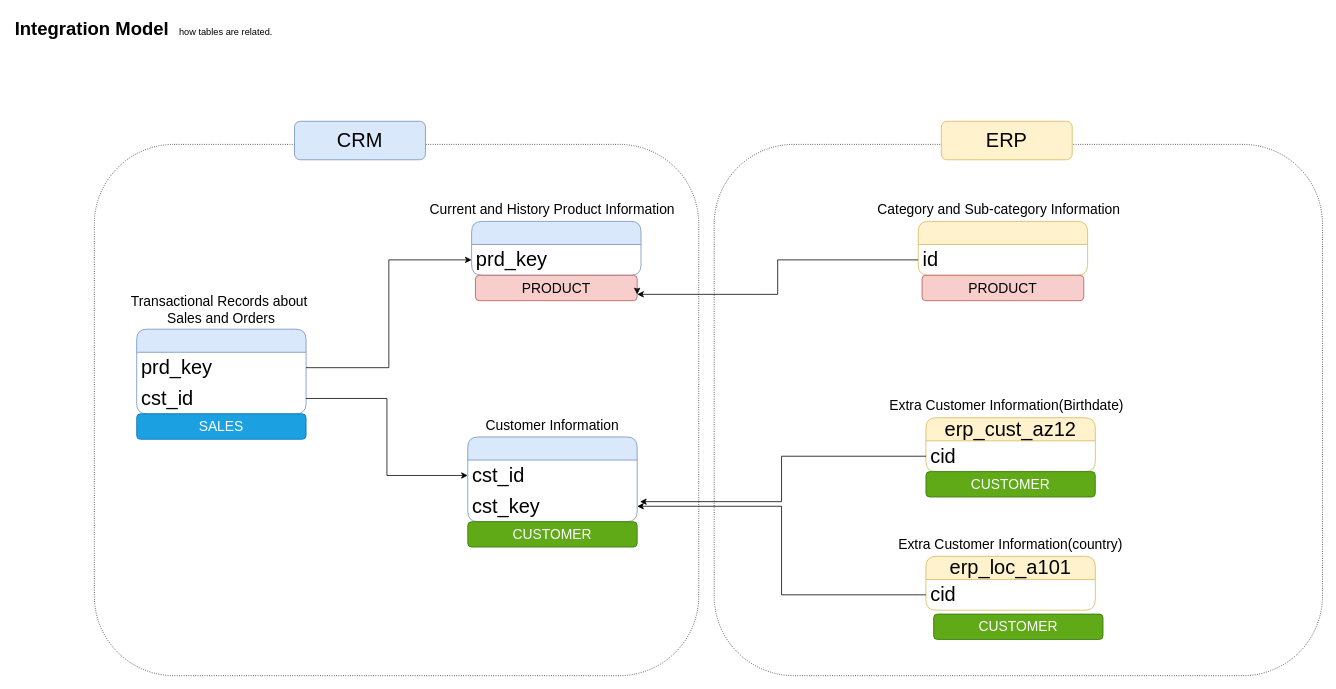
The diagram is 1336 pixels wide and 689 high, and some of its shapes have lost their labels. Here are the shapes that lost their labels. From the top down, the box of each, then its label:
(471, 221, 641, 275): crm_prd_info
(917, 221, 1088, 275): erp_px_cat_g1v2
(136, 328, 306, 414): crm_sales_details
(467, 436, 637, 522): crm_cust_info
